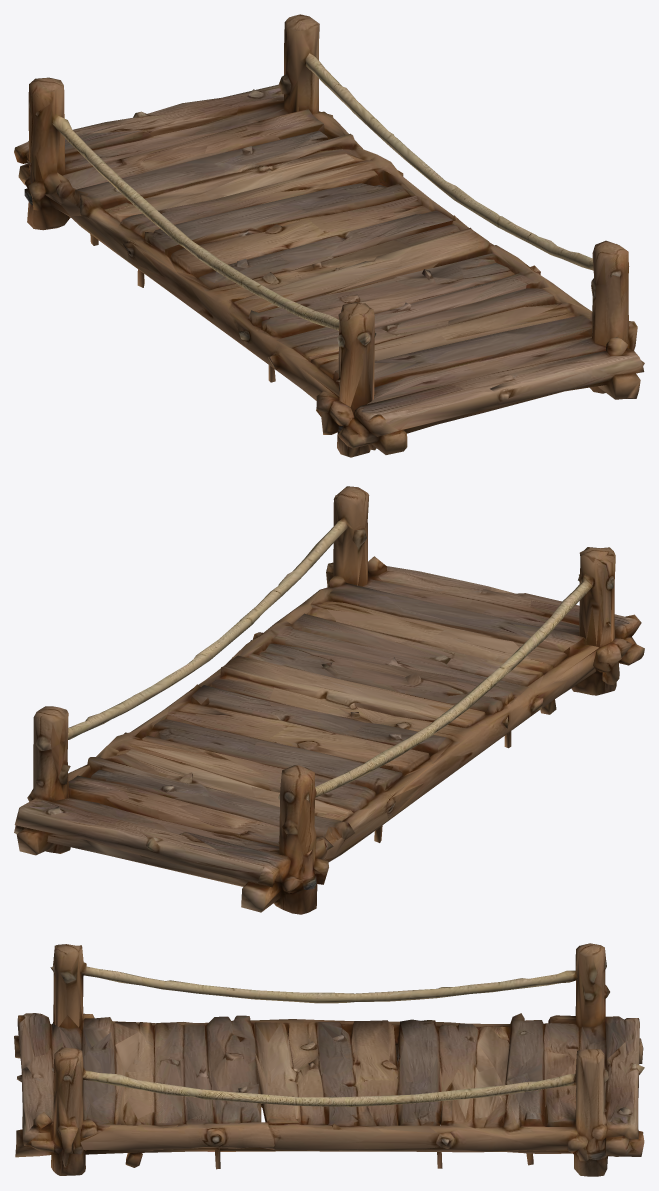
Rendered from bridge.glb.
The picture shows the model from 3 angles, top to bottom: view 1: azimuth 30°, elevation 25°; view 2: azimuth 150°, elevation 25°; view 3: azimuth 270°, elevation 25°; orthographic projection. The views are drawn at different scales.
Visible parts, largest first — view 1: tripo_node_b82c4b5c-1e82-45d3-919c-f26310e221a9; view 2: tripo_node_b82c4b5c-1e82-45d3-919c-f26310e221a9; view 3: tripo_node_b82c4b5c-1e82-45d3-919c-f26310e221a9.
Part boxes in pixels (x1,y1,x2,y2): tripo_node_b82c4b5c-1e82-45d3-919c-f26310e221a9: [14, 14, 644, 457]; tripo_node_b82c4b5c-1e82-45d3-919c-f26310e221a9: [14, 486, 644, 914]; tripo_node_b82c4b5c-1e82-45d3-919c-f26310e221a9: [14, 943, 644, 1176].
Bounding box in the file's own units: 0.4802 × 0.2121 × 1.
1 material, 1 textured.
